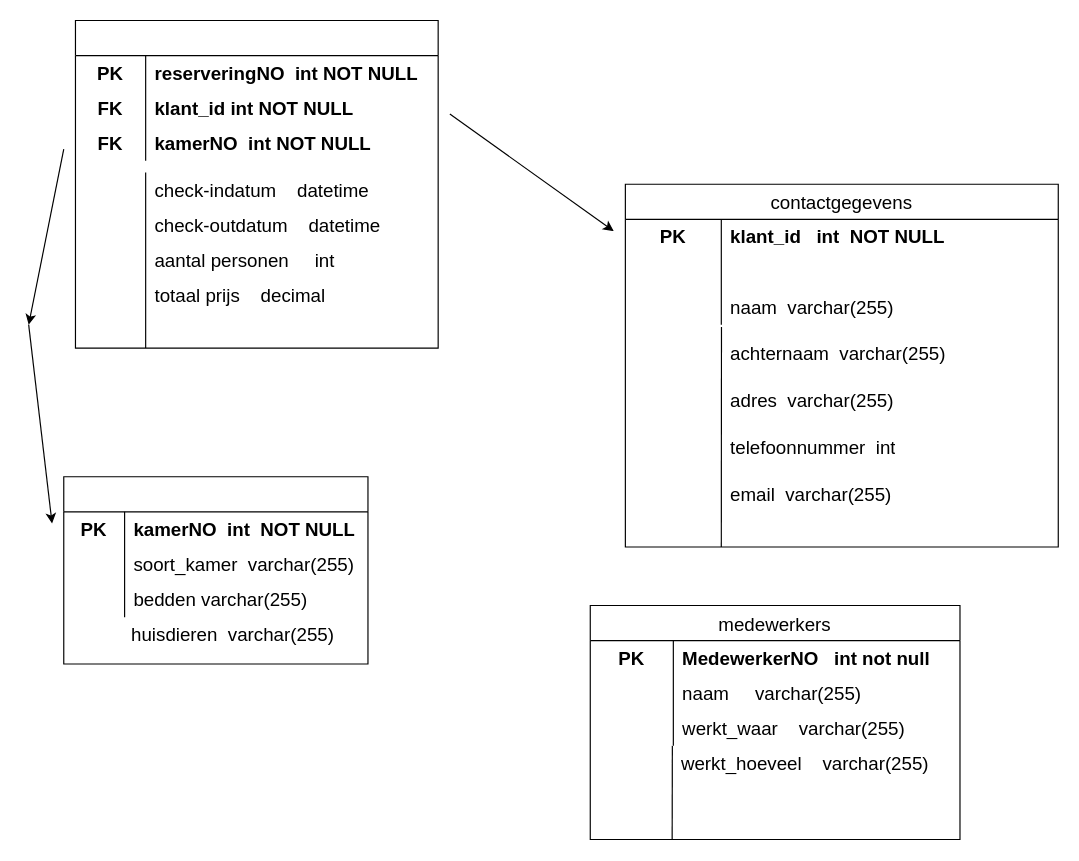
Image size: 1079x861. Some labels were removed from this diagram. The shapes that lost their labels are listed below. From the top down, each one's box as (x1, y1, x2, y2) in pixels, then its label:
(74, 19, 438, 348): reserveringen
(63, 476, 368, 664): kamers
